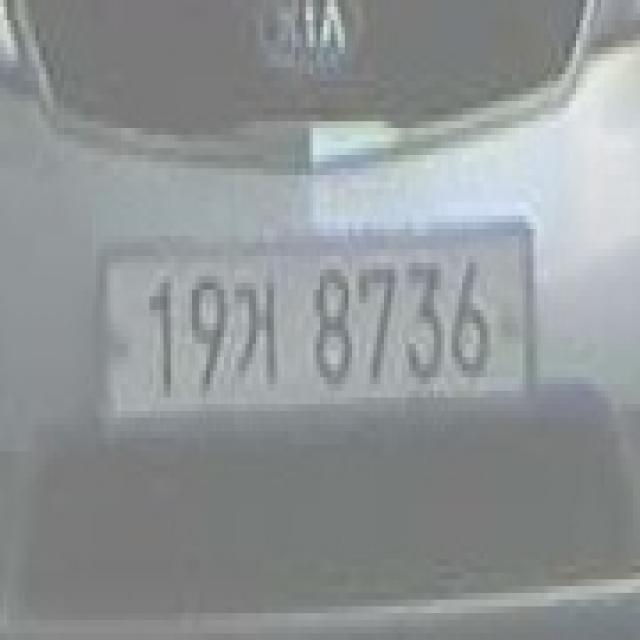1: (142, 270, 185, 404)
3: (402, 249, 448, 391)
6: (448, 236, 498, 384)
7: (356, 249, 398, 384)
8: (310, 249, 356, 391)
9: (185, 269, 227, 411)
geo: (227, 270, 281, 404)
license_plate: (89, 202, 540, 465)
